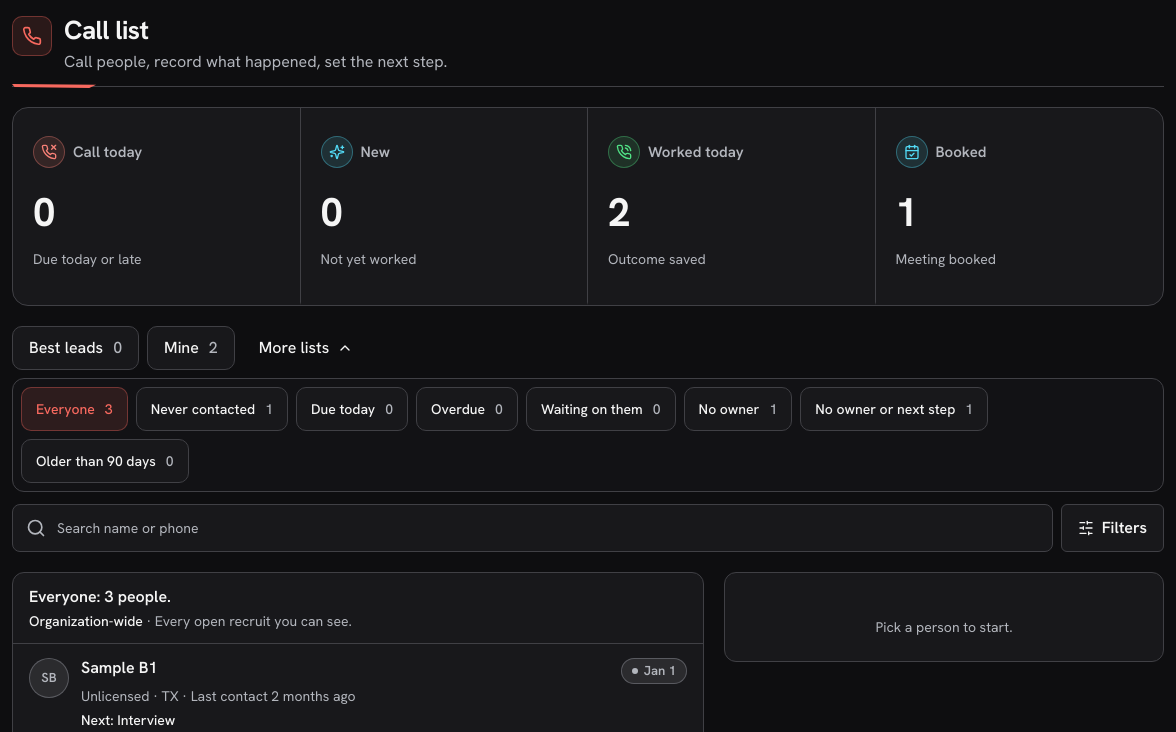
Test: RecruitingWorklist › Worked today and Booked are lists too: each tile opens exactly the people it counts
The image size is (1176, 732).
Click the button "Booked 1 Meeting booked" at (912, 152), box [876,108,1163,305]
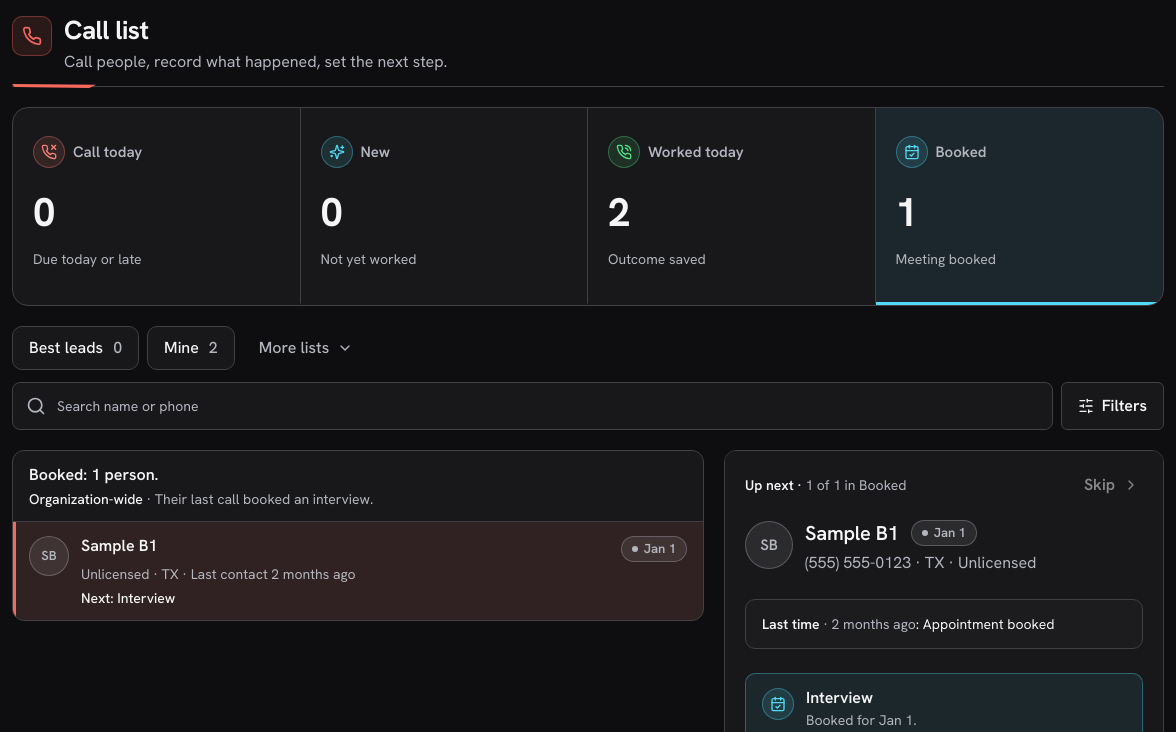
expect the button "Sample B1" is shown: met, box [13,522,703,620]
expect the text "Booked: 1 person." is shown: met, box [29,464,158,485]
Click the button "Worked today 2 Outcome saved" at (624, 152), box [588,108,876,305]
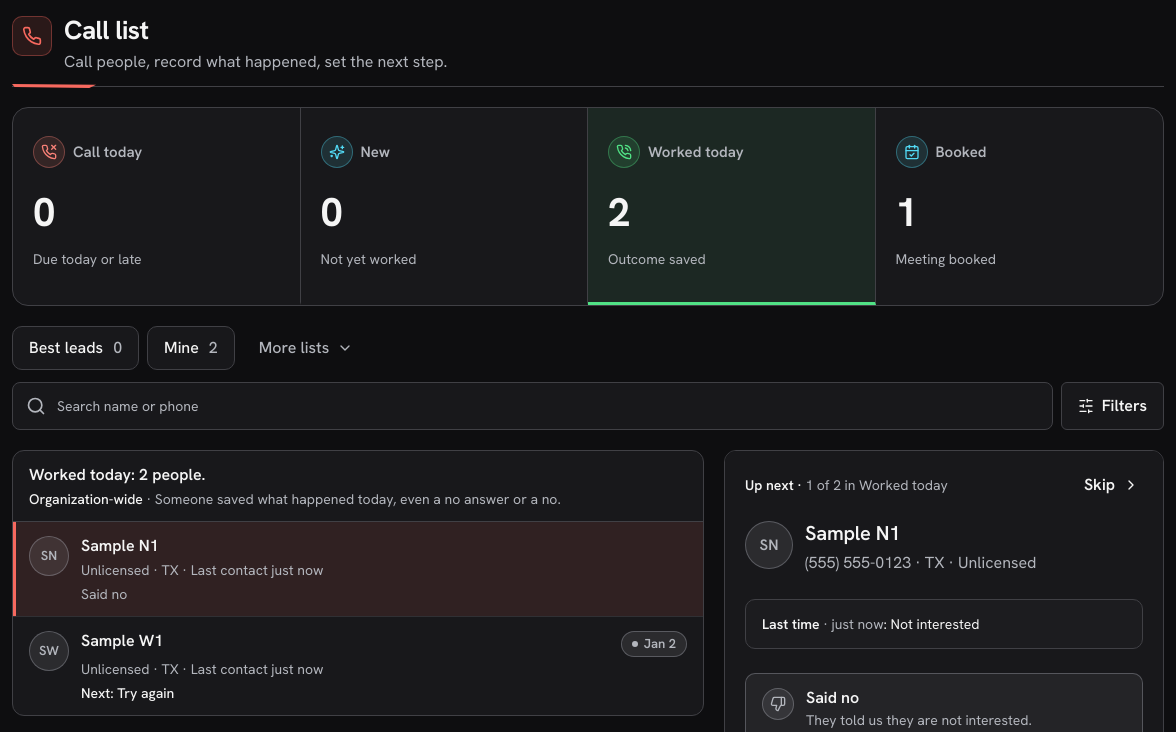
expect the text "Worked today: 2 people." is shown: met, box [29,464,206,485]
expect the button "Sample W1" is shown: met, box [13,617,703,715]
expect the button "SN Sample N1 Unlicensed · TX · Last contact just now Said no" is shown: met, box [13,522,703,616]
